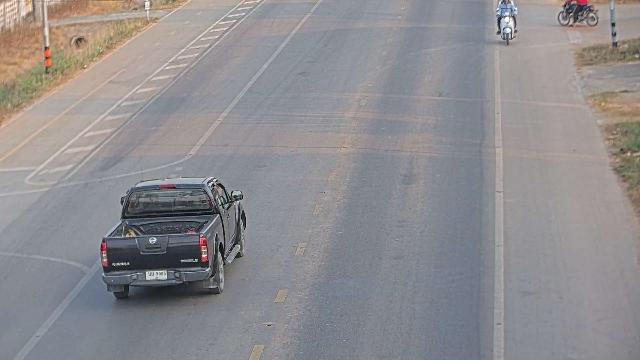pickup-truck: (99, 175, 247, 299)
